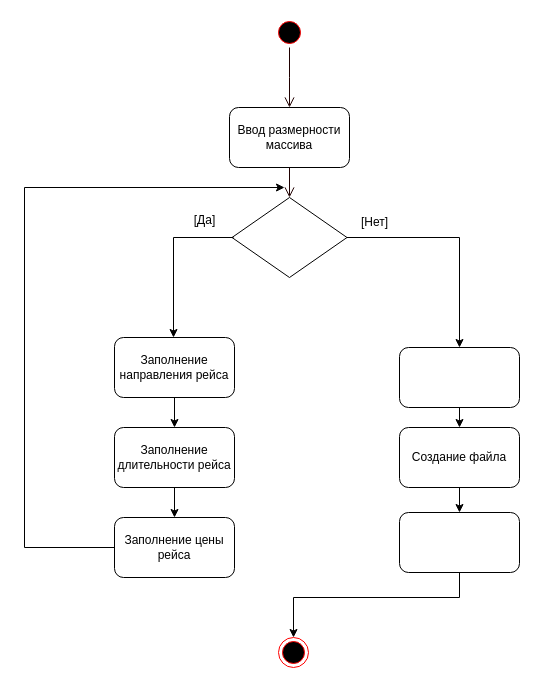
The diagram is 537 pixels wide and 685 high, and some of its shapes have lost their labels. Each missing label, with the centre of its shape:
"i < array.Size?" goes at (289,237).
"Вызов функции сортировки" goes at (459,377).
"Запись отформатированной строки посредством FileStream" goes at (459,542).
